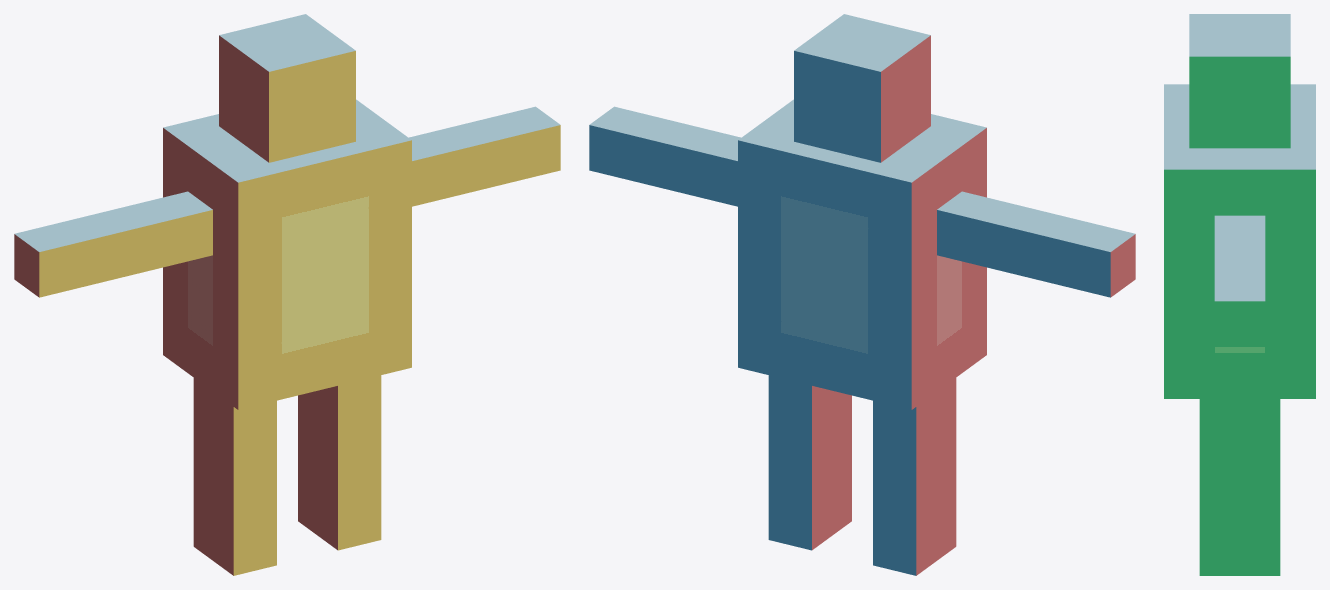
Rendered from soldier.glb.
The picture shows the model from 3 angles, left to right: view 1: azimuth 30°, elevation 25°; view 2: azimuth 150°, elevation 25°; view 3: azimuth 270°, elevation 25°; orthographic projection.
Visible parts, largest first — view 1: Soldier; view 2: Soldier; view 3: Soldier.
Part boxes in pixels (x1,y1,x2,y2): Soldier: (14,14,560,575); Soldier: (589,14,1135,575); Soldier: (1164,14,1315,575).
Bounding box in the file's own units: 0.75 × 0.6875 × 0.1875.
1 material, 1 textured.
